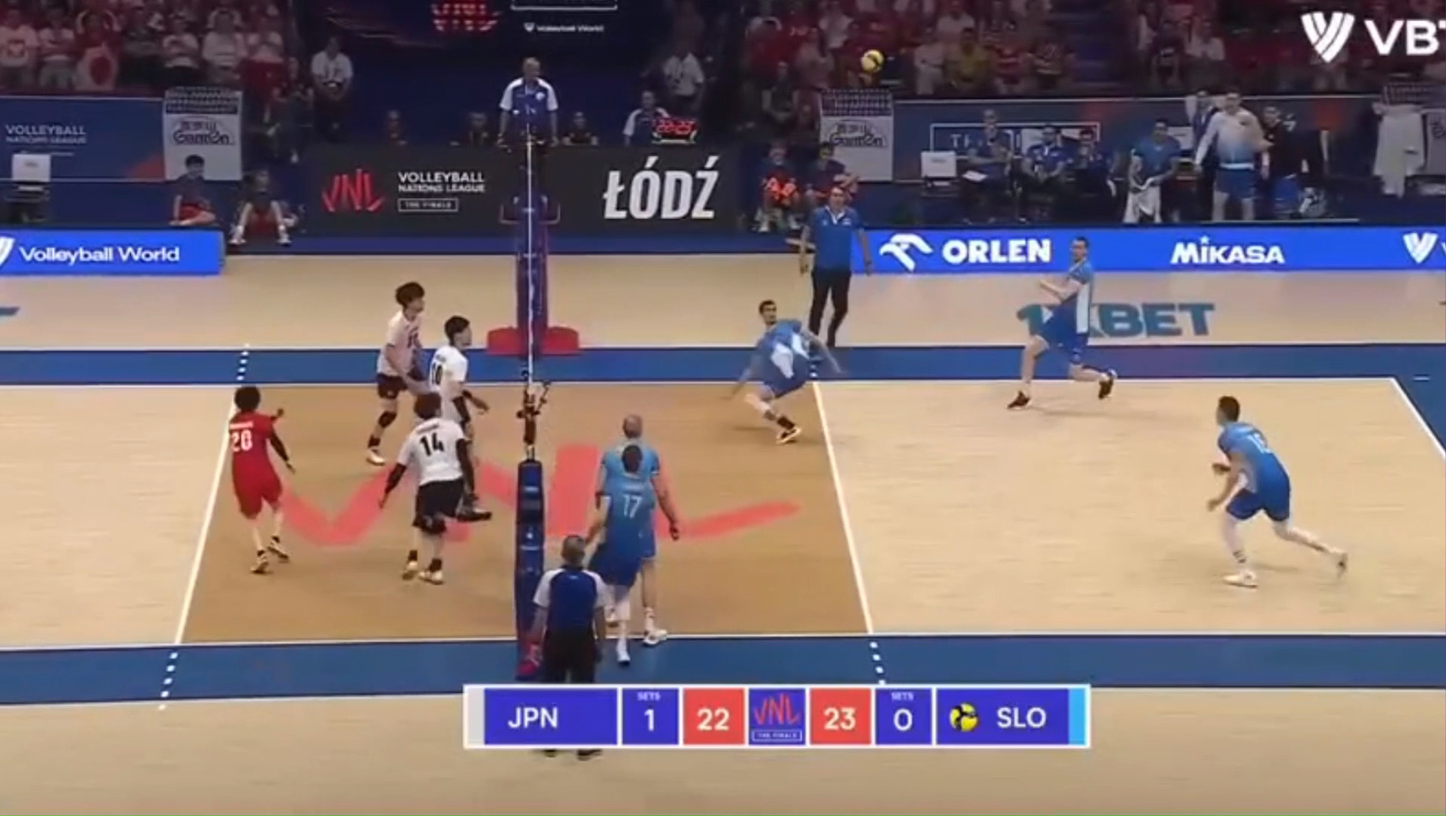ball: (860, 49, 885, 73)
player: (1207, 395, 1347, 588), (1009, 236, 1117, 409), (587, 444, 658, 664), (734, 300, 837, 444), (596, 414, 662, 494)
player 1: (378, 392, 474, 584), (228, 385, 292, 573), (366, 281, 426, 466), (428, 315, 488, 439)
referee: (530, 535, 606, 684), (497, 57, 558, 238), (799, 185, 866, 348)
